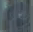bike lane: (2, 1, 32, 30)
